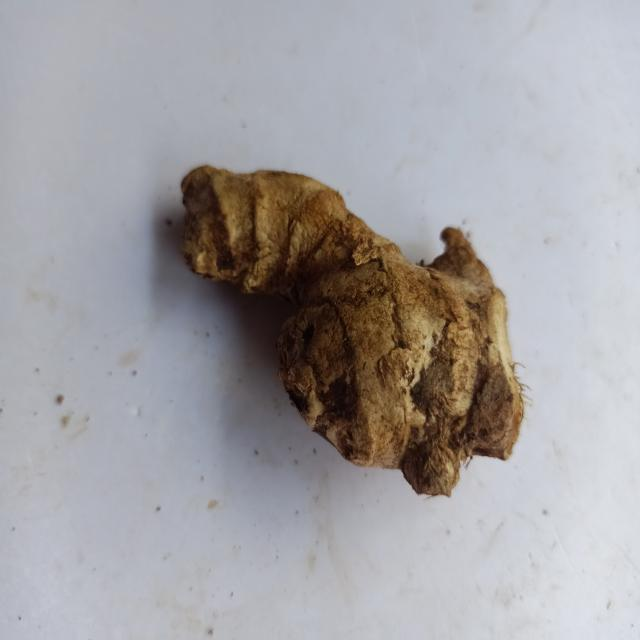Ginger: (181, 165, 524, 496)
